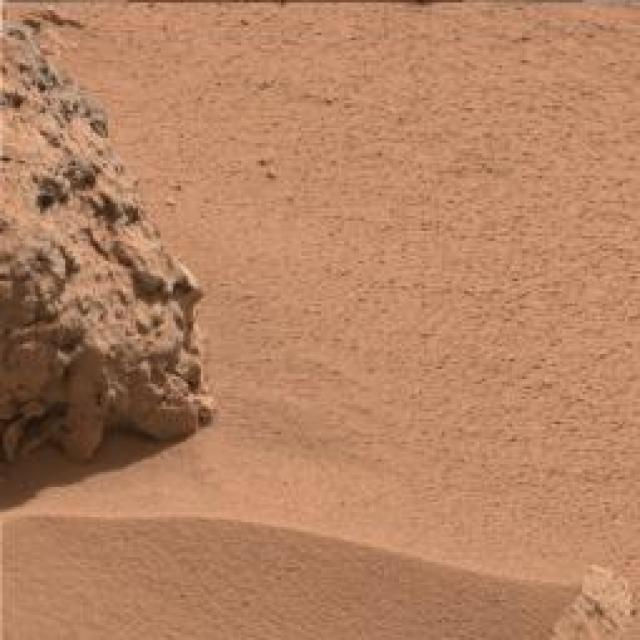rock: (0, 19, 219, 466)
